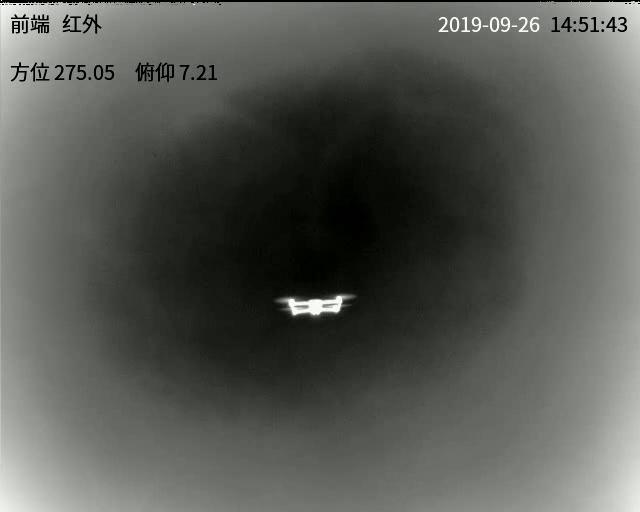DRONE: (278, 294, 351, 316)
